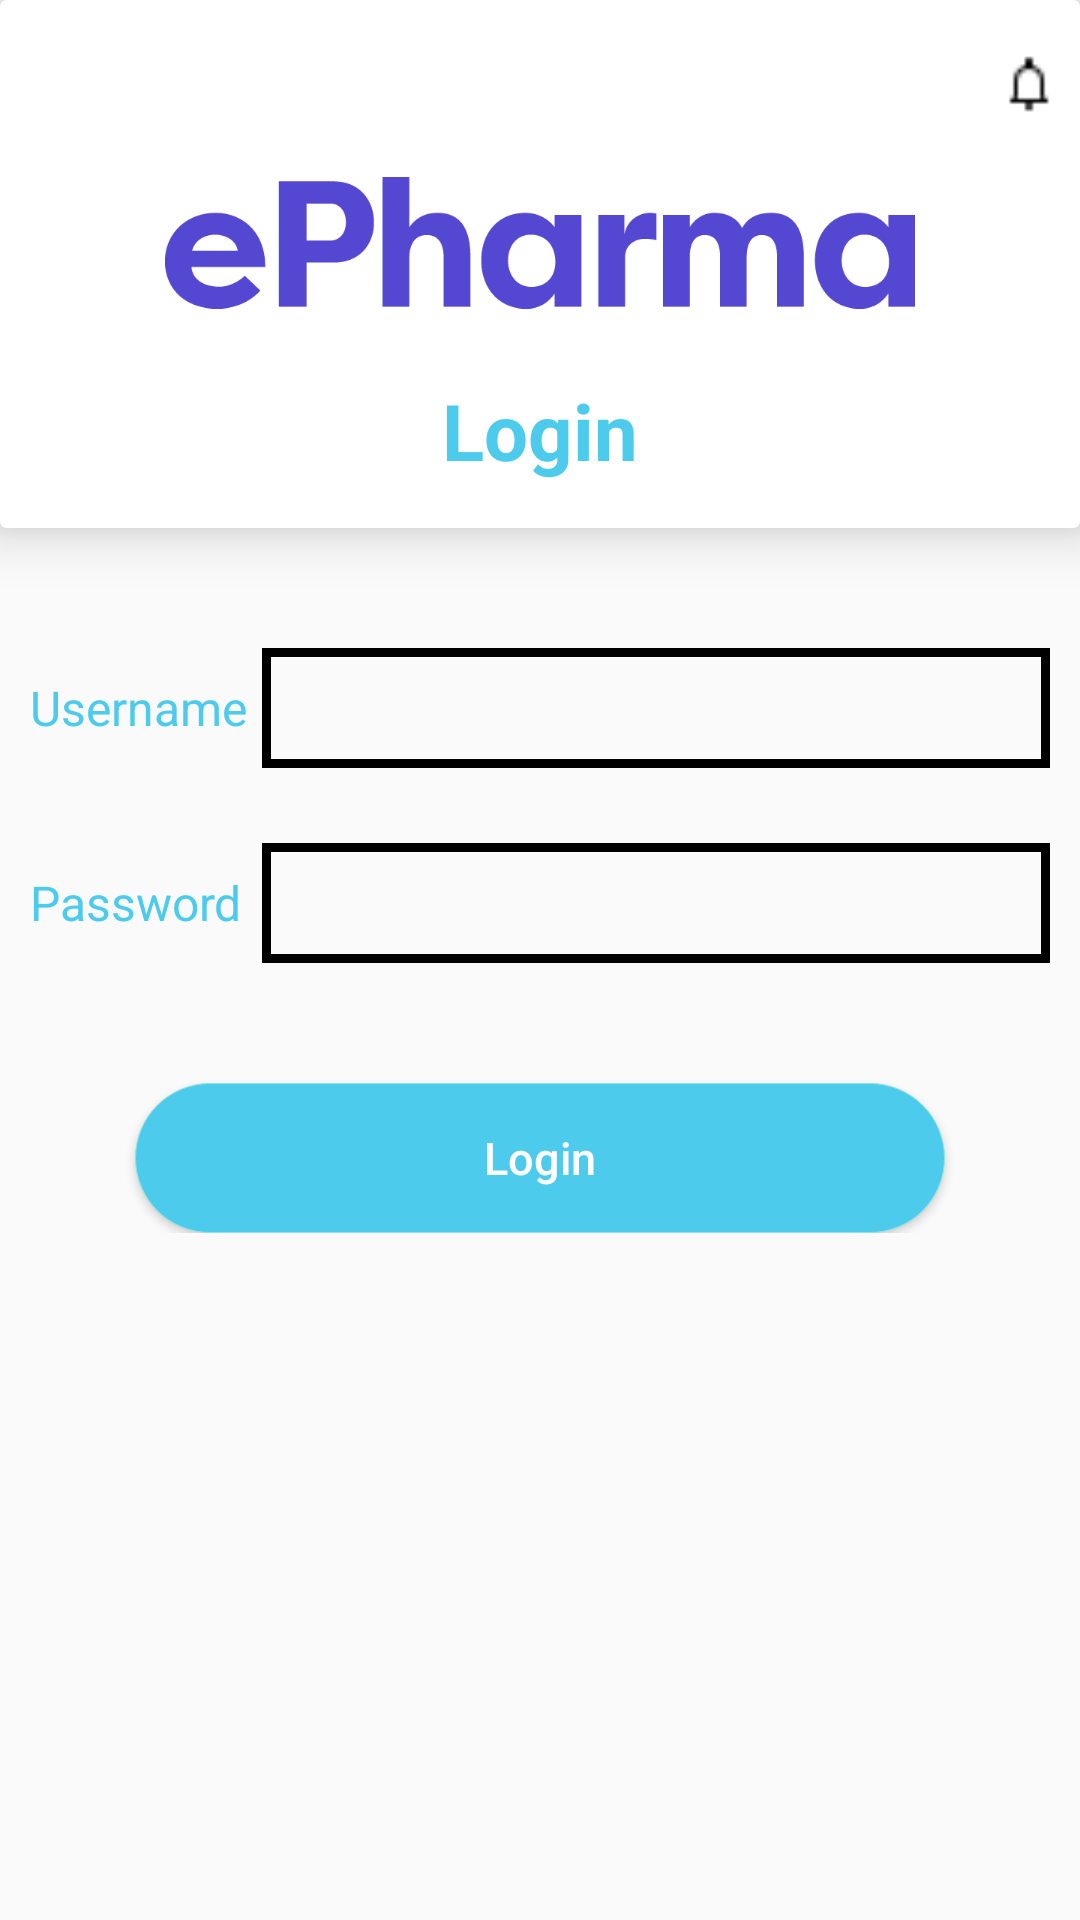

Where icons sit on this 1080w x 1920h app screen, as (x1=x1, y1=y1, x2=x2, y2=y2):
notication: (x1=1009, y1=56, x2=1049, y2=112)
